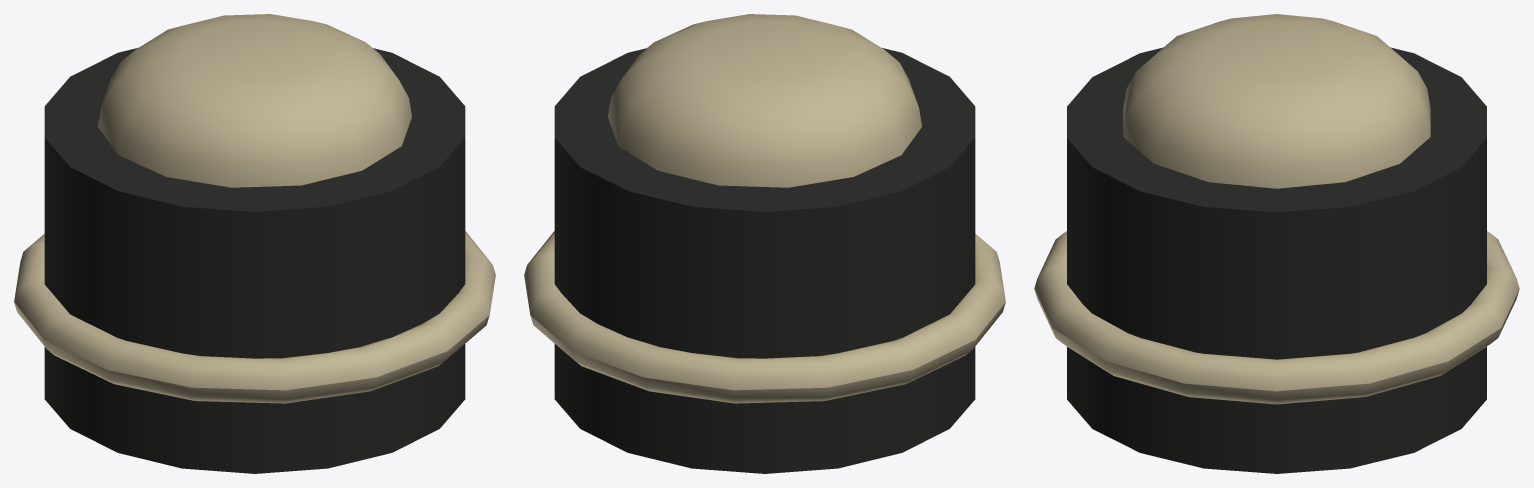
Rendered from mirror_armor.obj.
3 views of the same model, side by side, from view 1: azimuth 30°, elevation 25°; view 2: azimuth 150°, elevation 25°; view 3: azimuth 270°, elevation 25° (orthographic).
Parts seen in each view (by area): view 1: mirror_armor; view 2: mirror_armor; view 3: mirror_armor.
Boxes of the visible parts, bbox=[...] form: mirror_armor: bbox=[14, 14, 495, 473]; mirror_armor: bbox=[524, 14, 1005, 473]; mirror_armor: bbox=[1034, 14, 1519, 473].
Size of the model in its own units: 1.48 by 1.13 by 1.48.
